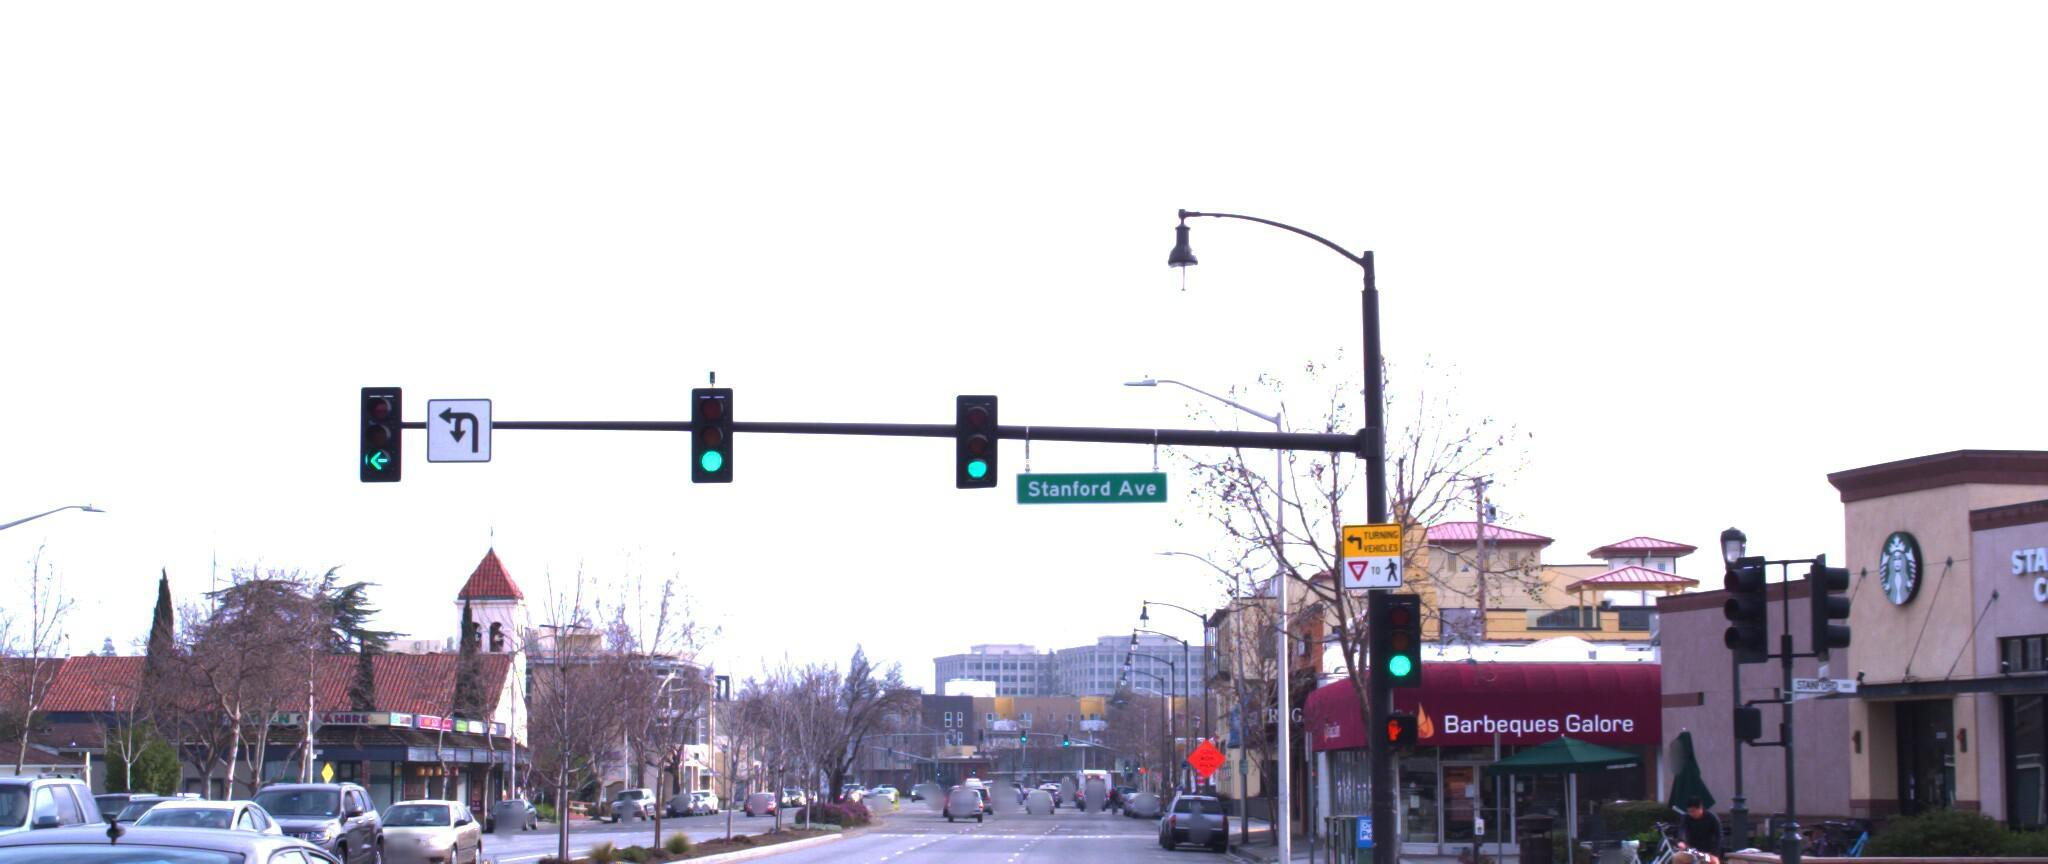bicycle: (1635, 779, 1761, 864), (1562, 801, 1708, 864)
car: (0, 784, 485, 864), (206, 760, 398, 864), (86, 775, 300, 864), (0, 747, 135, 864), (359, 775, 487, 857)
